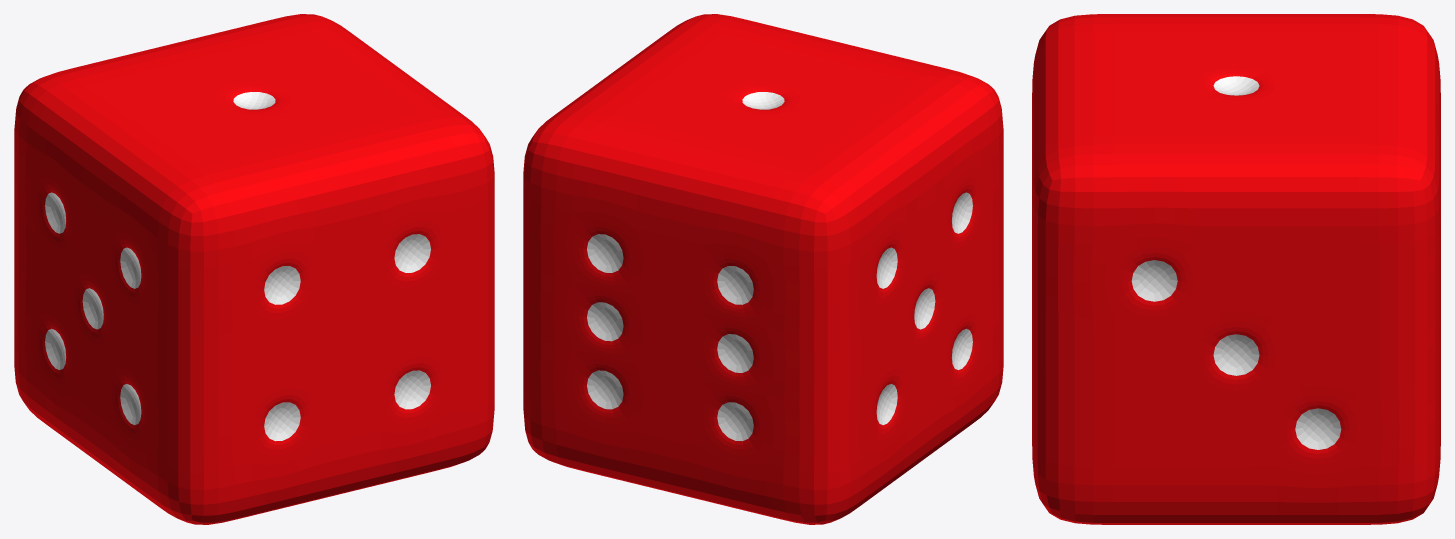
File: die.fbx
3 views of the same model, side by side, from view 1: azimuth 30°, elevation 25°; view 2: azimuth 150°, elevation 25°; view 3: azimuth 270°, elevation 25° (orthographic). The views are drawn at different scales.
Parts seen in each view (by area): view 1: Die; view 2: Die; view 3: Die.
Part boxes in pixels (box(x1,y1,x2,y2)): Die: box(14, 14, 494, 524); Die: box(523, 14, 1003, 524); Die: box(1032, 14, 1440, 524).
Bounding box in the file's own units: 200 × 200 × 200.
